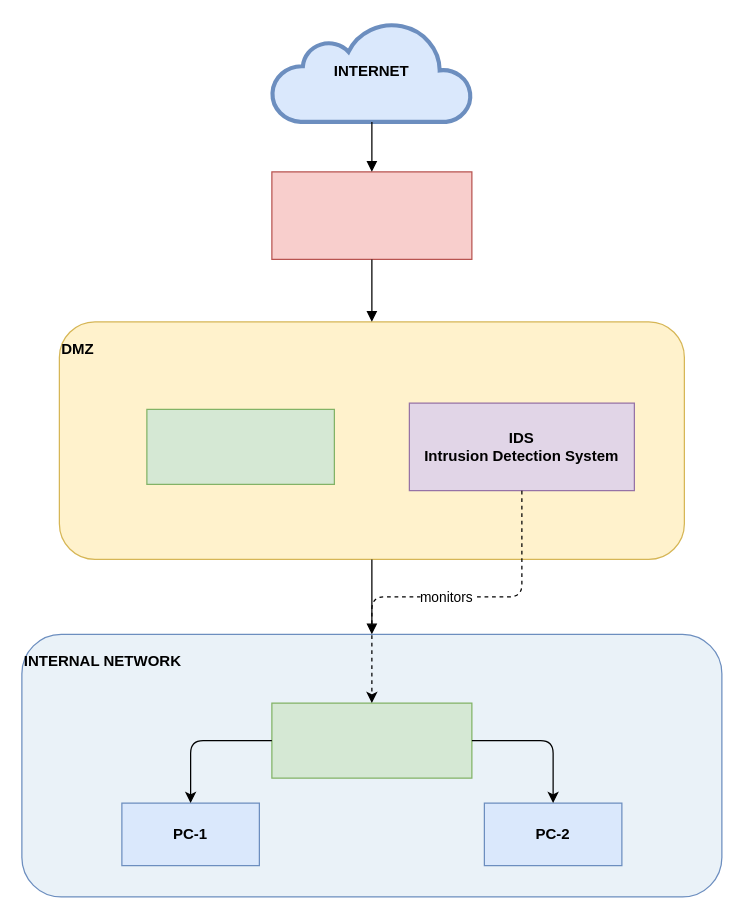
Image size: 744x919. Some labels were removed from this diagram. The centre of each missing label's shape, as x and y in pixels:
"FIREWALL" belongs at point (371, 215).
"SWITCH" belongs at point (371, 740).
"WEB SERVER" belongs at point (240, 446).
